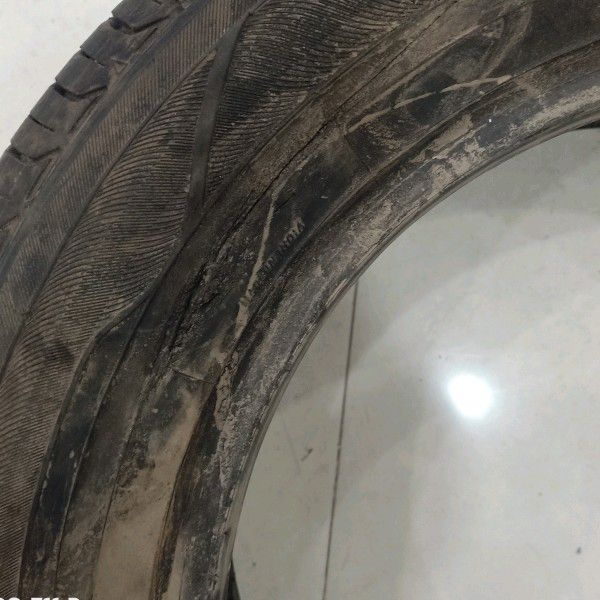cut: (167, 253, 210, 359)
